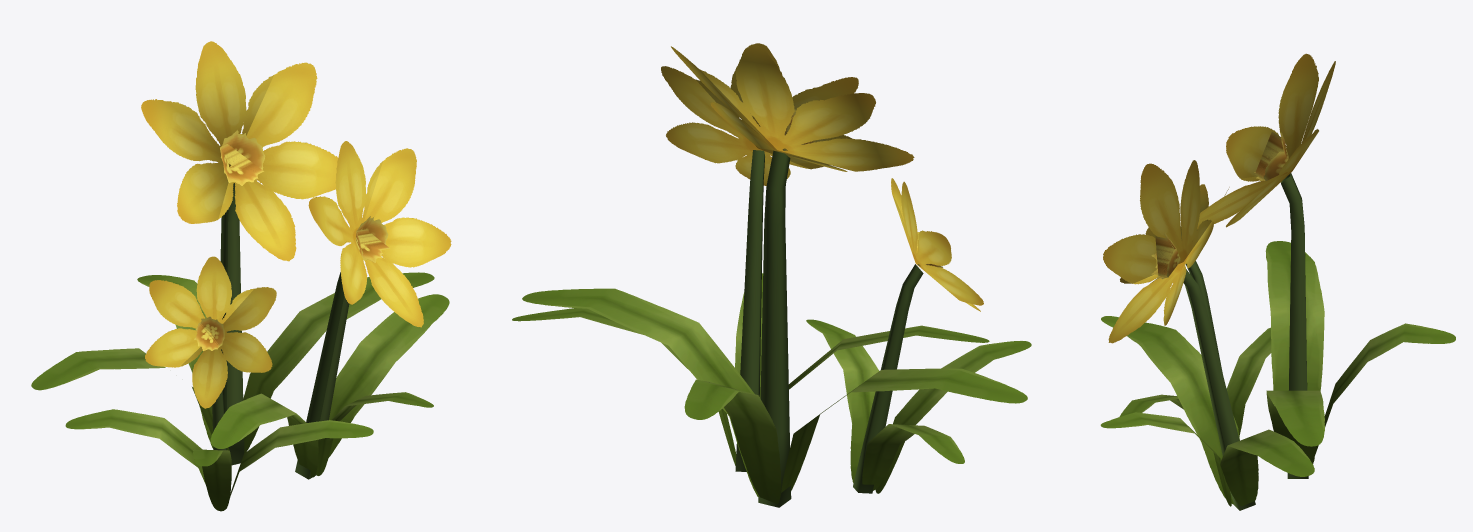
File: Narciscus.fbx
3 views of the same model, side by side, from view 1: azimuth 30°, elevation 25°; view 2: azimuth 150°, elevation 25°; view 3: azimuth 270°, elevation 25° (orthographic). The views are drawn at different scales.
Parts seen in each view (by area): view 1: Plane.006; view 2: Plane.006; view 3: Plane.006.
Part boxes in pixels (left/top/right/bottom): Plane.006: left=31, top=41, right=451, bottom=511; Plane.006: left=512, top=43, right=1031, bottom=507; Plane.006: left=1100, top=53, right=1455, bottom=510.
Bounding box in the file's own units: 105 × 96.55 × 78.77.
